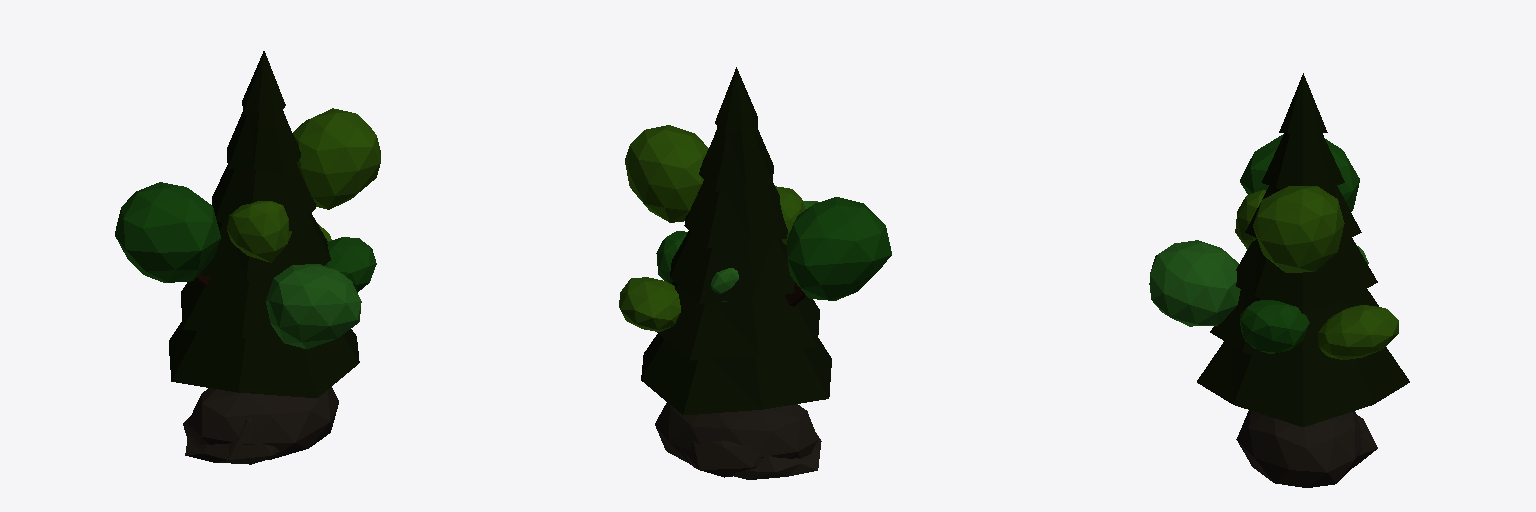
Rendered from ForestProps.obj.
3 views of the same model, side by side, from view 1: azimuth 30°, elevation 25°; view 2: azimuth 150°, elevation 25°; view 3: azimuth 270°, elevation 25° (orthographic).
Visible parts, largest first — view 1: Pine_Tree_Cylinder, Forest_Tree_Cylinder.001, Icosphere.001_Icosphere.002, Icosphere.002_Icosphere.003; view 2: Pine_Tree_Cylinder, Forest_Tree_Cylinder.001, Icosphere.001_Icosphere.002, Icosphere_Icosphere.001, Icosphere.002_Icosphere.003; view 3: Pine_Tree_Cylinder, Forest_Tree_Cylinder.001, Icosphere.001_Icosphere.002.
Boxes of the visible parts, <box> form: Pine_Tree_Cylinder: <box>169,51,359,397</box>; Forest_Tree_Cylinder.001: <box>115,108,380,348</box>; Icosphere.001_Icosphere.002: <box>187,387,338,459</box>; Icosphere.002_Icosphere.003: <box>183,416,280,464</box>; Pine_Tree_Cylinder: <box>641,67,831,414</box>; Forest_Tree_Cylinder.001: <box>619,125,891,331</box>; Icosphere.001_Icosphere.002: <box>655,403,817,464</box>; Icosphere_Icosphere.001: <box>684,440,762,477</box>; Icosphere.002_Icosphere.003: <box>734,433,821,479</box>; Pine_Tree_Cylinder: <box>1197,73,1409,426</box>; Forest_Tree_Cylinder.001: <box>1149,134,1398,359</box>; Icosphere.001_Icosphere.002: <box>1236,410,1362,487</box>.
Size of the model in its own units: 5.31 by 7.66 by 4.71.